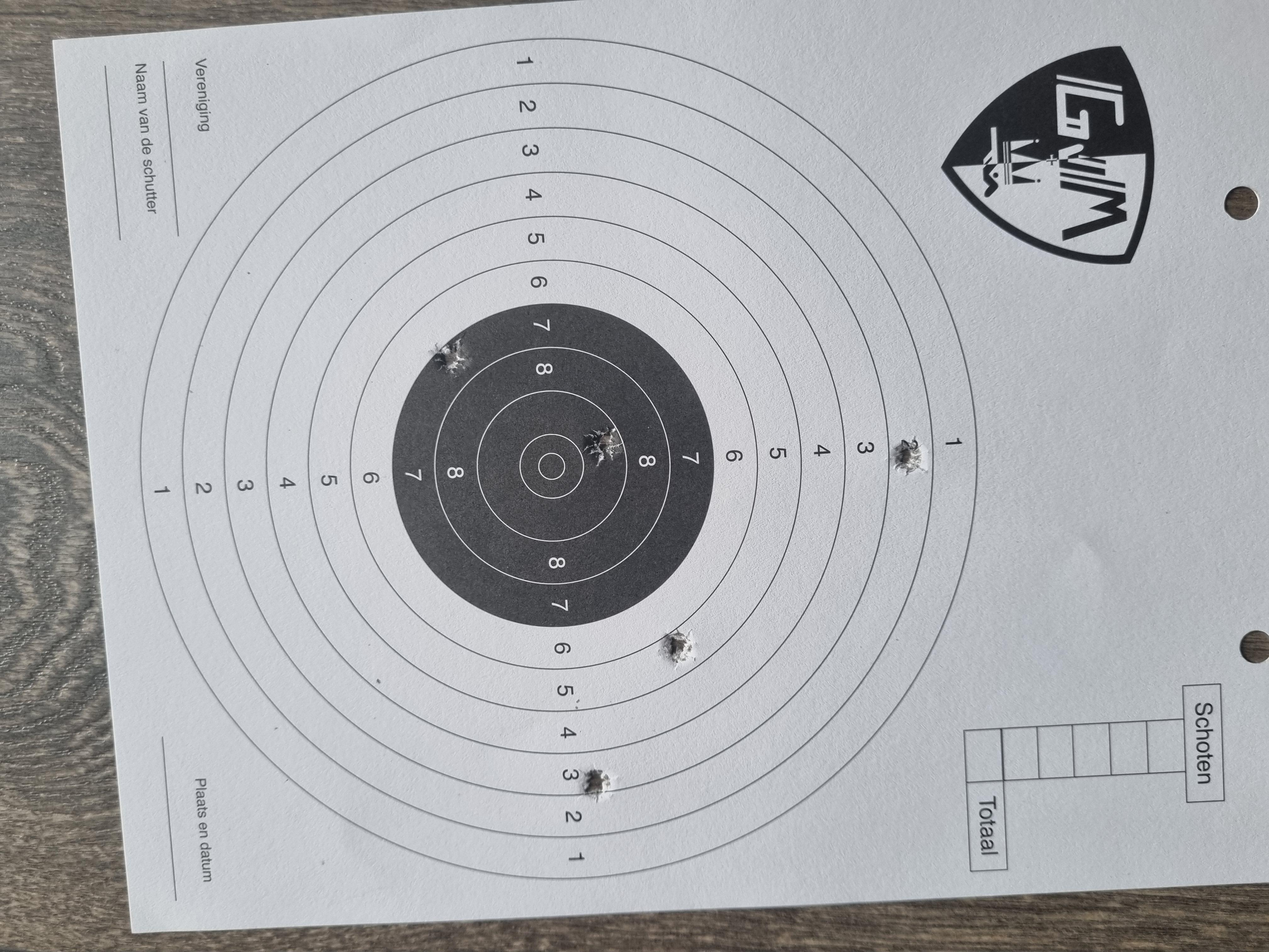hole: (634, 664, 689, 696), (649, 437, 701, 469), (769, 322, 819, 350), (385, 495, 432, 519), (197, 436, 244, 458)
